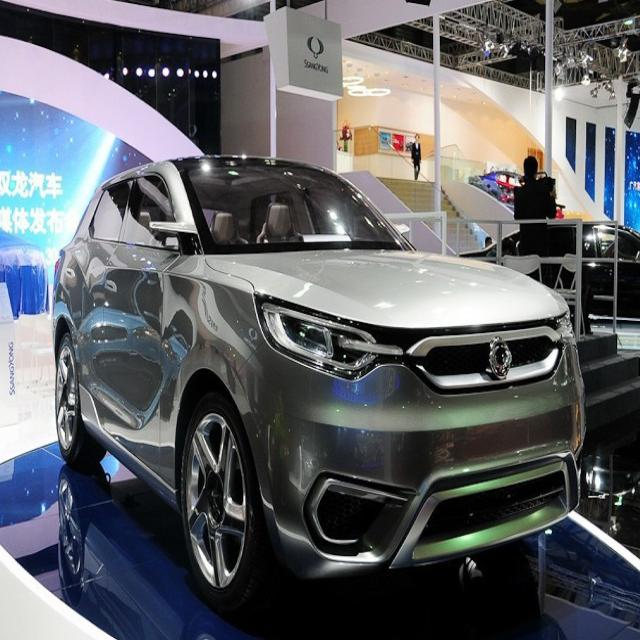back_right_side_light: (54, 254, 61, 280)
front_bumper: (229, 386, 606, 586)
front_glass: (170, 158, 415, 252)
front_left_side_light: (557, 302, 576, 346)
front_right_side_door: (102, 170, 181, 492)
front_right_side_light: (253, 288, 406, 386)
front_right_side_mirror: (148, 216, 202, 258)
wheel: (178, 388, 263, 610), (54, 332, 109, 466)
